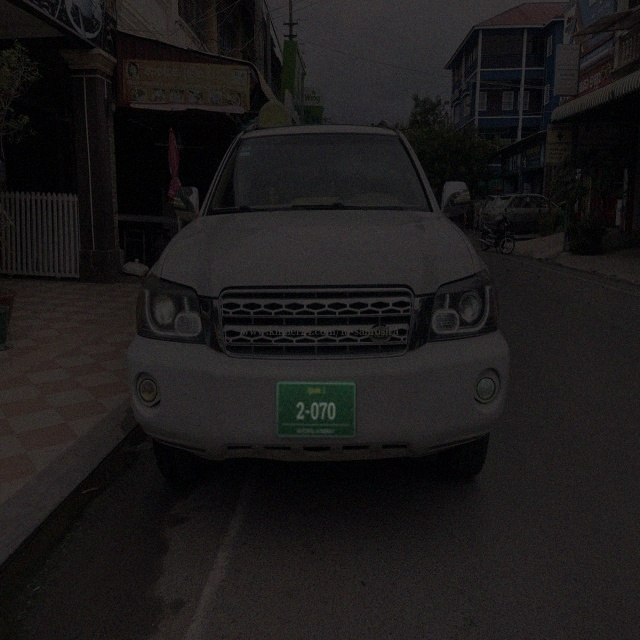Plate Number: (276, 381, 357, 438)
